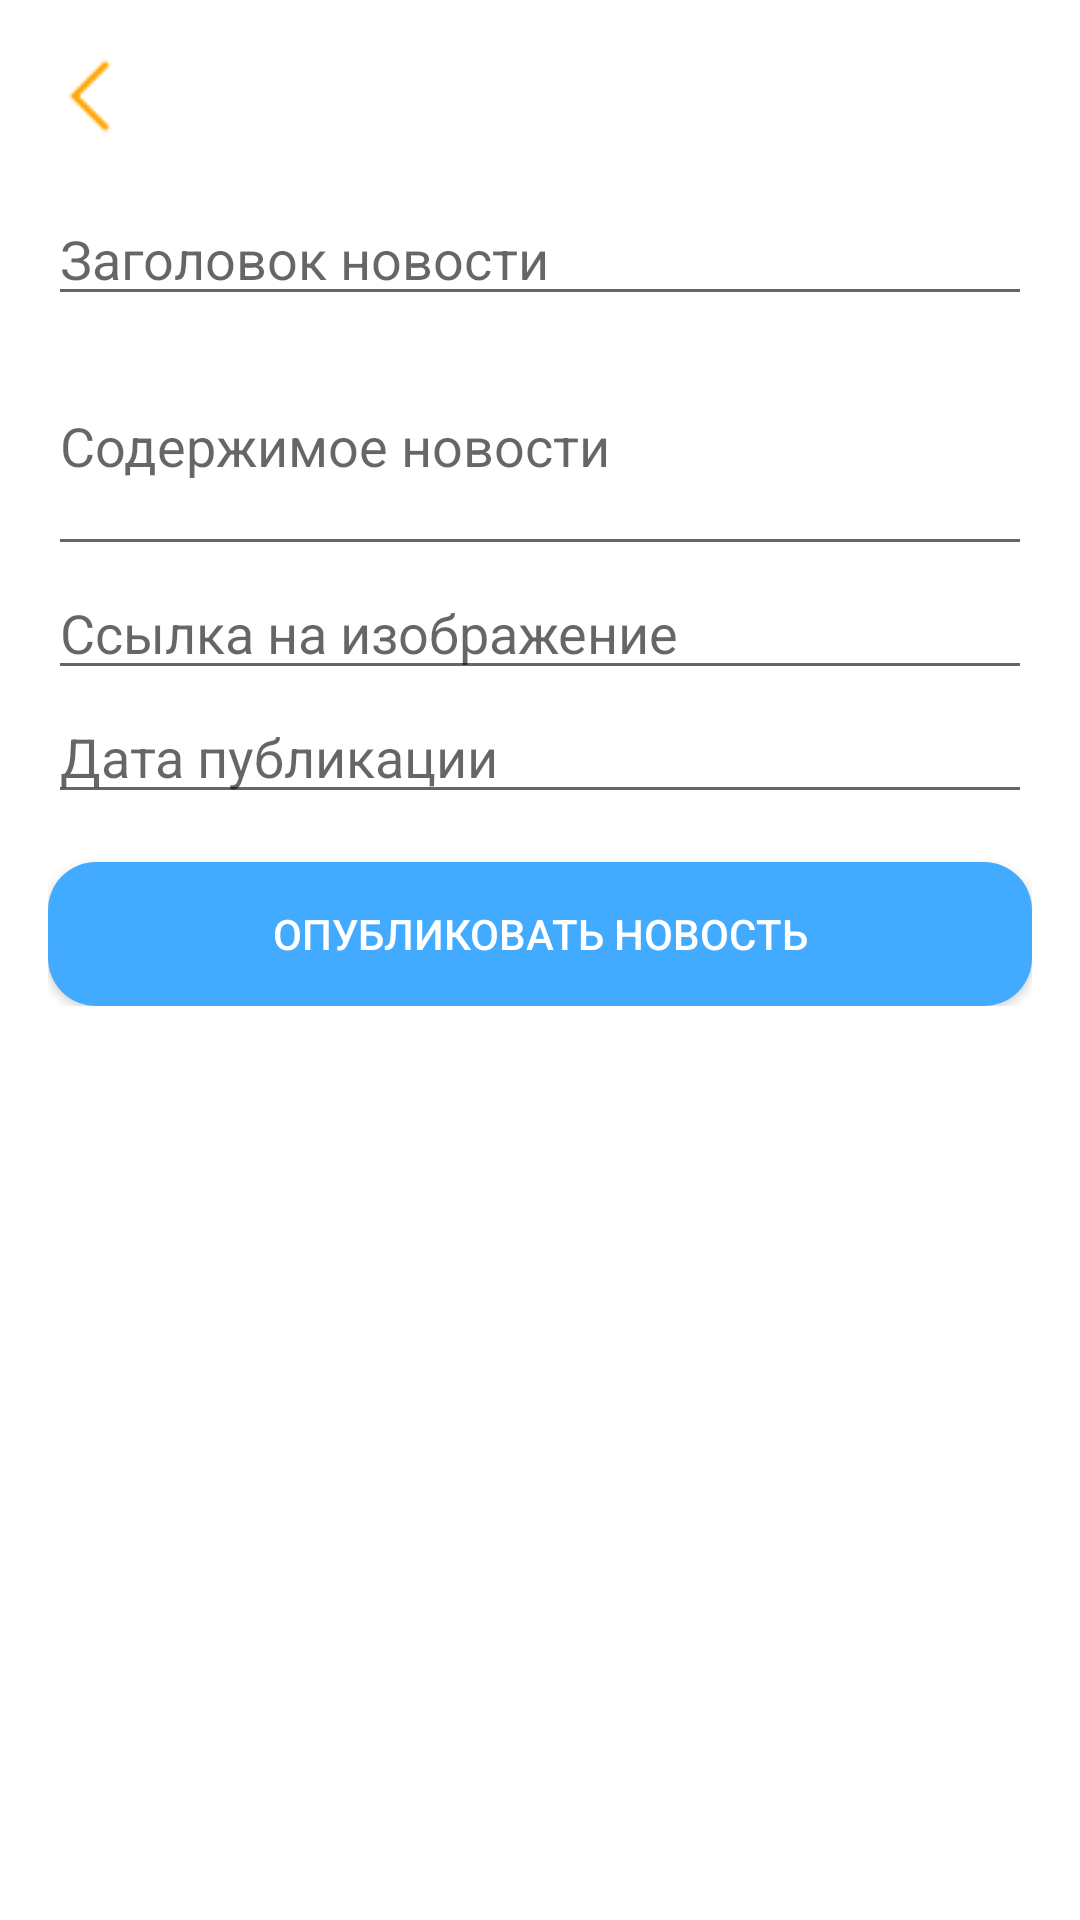

Point at icon controls on the screen. Image size 1080 × 1920, points as [x,y].
Назад: [90,96]
